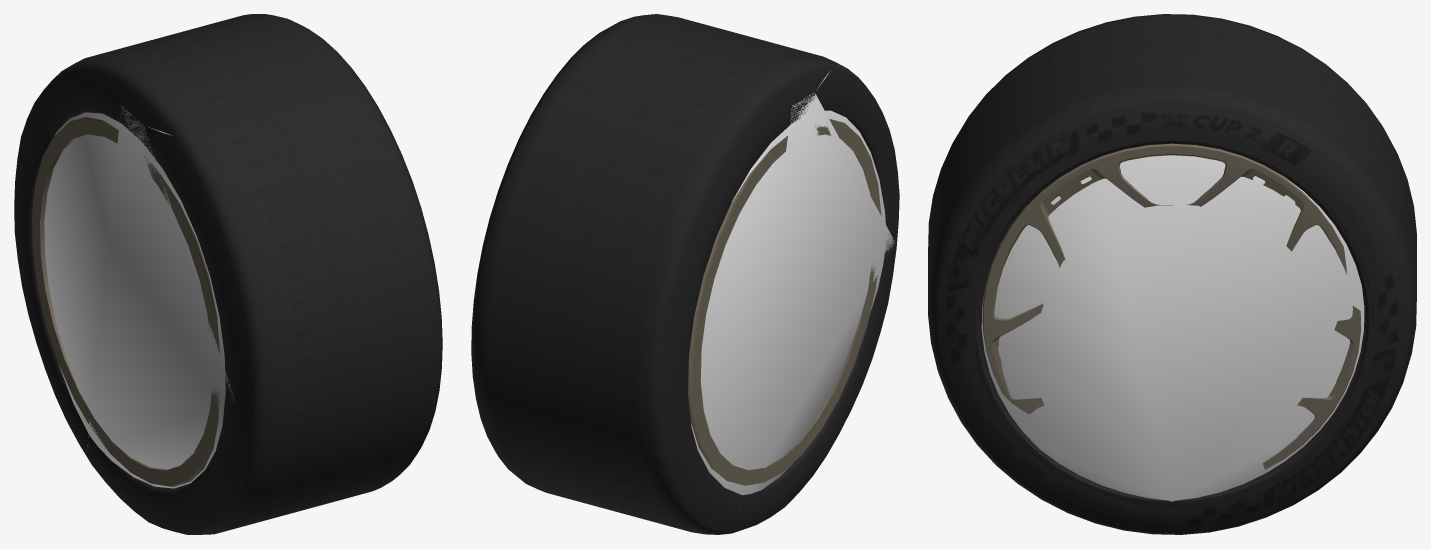
The picture shows the model from 3 angles, left to right: view 1: azimuth 30°, elevation 25°; view 2: azimuth 150°, elevation 25°; view 3: azimuth 270°, elevation 25°; orthographic projection.
Visible parts, largest first — view 1: wheel_stampede_front_01, wheel_stampede_front_01_col; view 2: wheel_stampede_front_01, wheel_stampede_front_01_col; view 3: wheel_stampede_front_01, wheel_stampede_front_01_col.
Part boxes in pixels (left/top/right/bottom): wheel_stampede_front_01: left=14, top=14, right=442, bottom=534; wheel_stampede_front_01_col: left=44, top=105, right=235, bottom=488; wheel_stampede_front_01: left=471, top=14, right=899, bottom=534; wheel_stampede_front_01_col: left=691, top=70, right=895, bottom=495; wheel_stampede_front_01: left=928, top=14, right=1416, bottom=534; wheel_stampede_front_01_col: left=981, top=155, right=1364, bottom=501.
Size of the model in its own units: 0.3527 by 0.709 by 0.703.
Materials: 3 (3 with a texture image).
